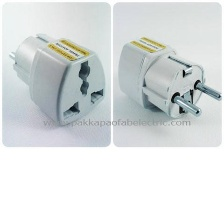three_eye_plug: (5, 25, 109, 129), (116, 33, 224, 127)
